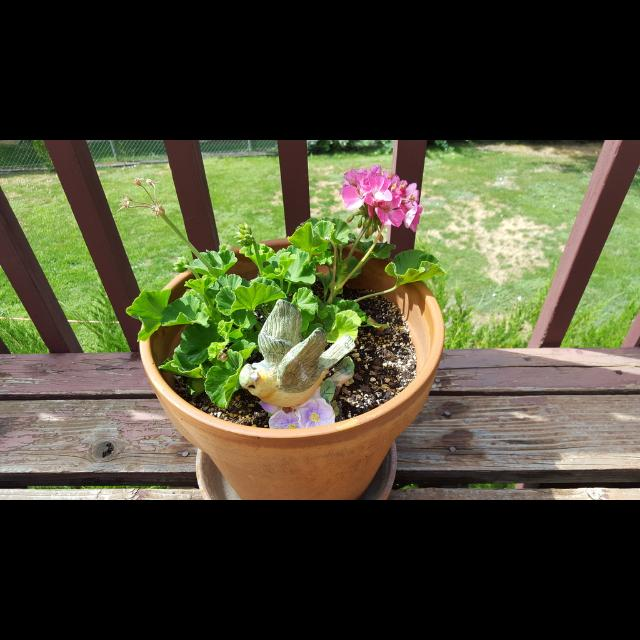Flower: (336, 158, 426, 232), (261, 394, 335, 430)
